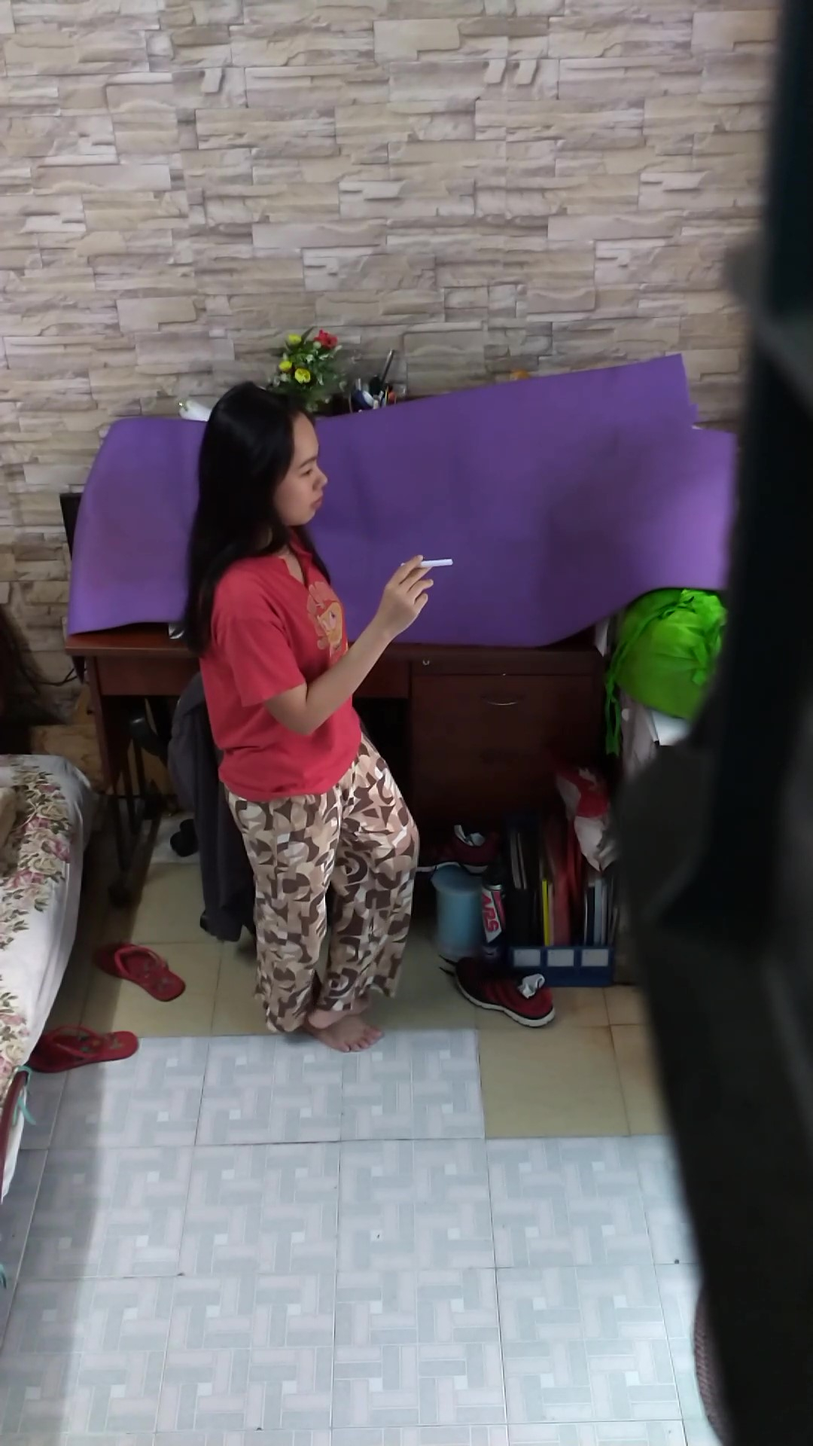cigarette: (420, 554, 457, 572)
person: (196, 393, 438, 1047)
